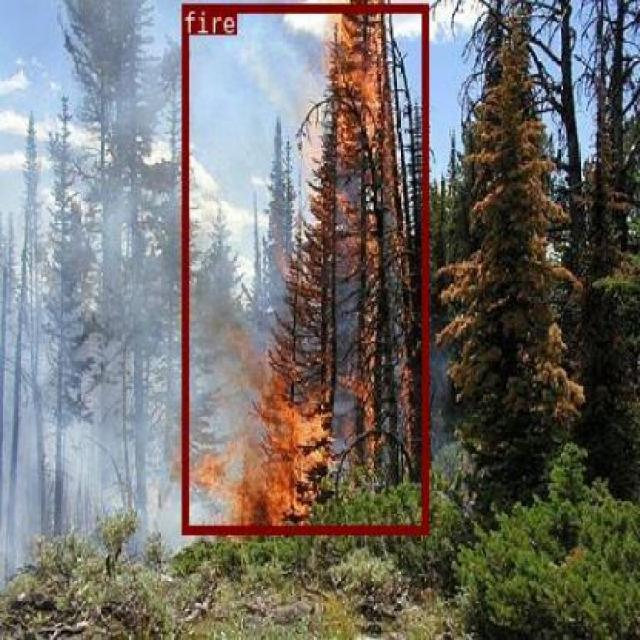Fire: (180, 2, 426, 532)
